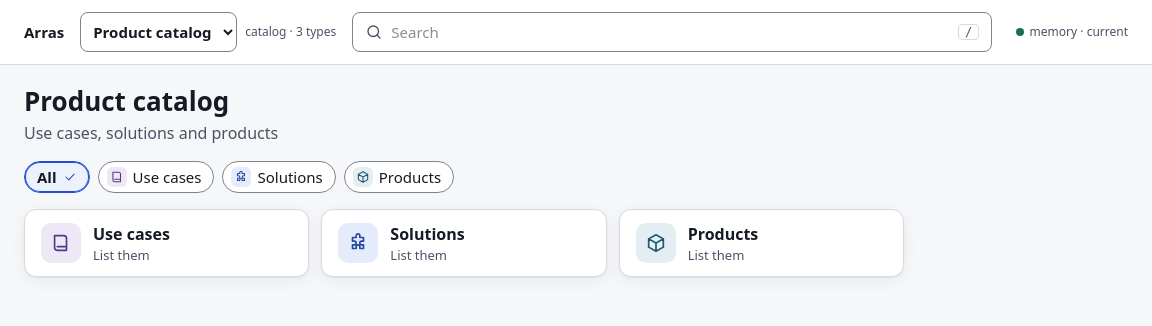
it: search (US-065) › US-065-AC5: one character sends no search and the page says two are needed
Step 1. Type "h" into the field labelled "Search" → [671, 32], box [391, 21, 950, 43]
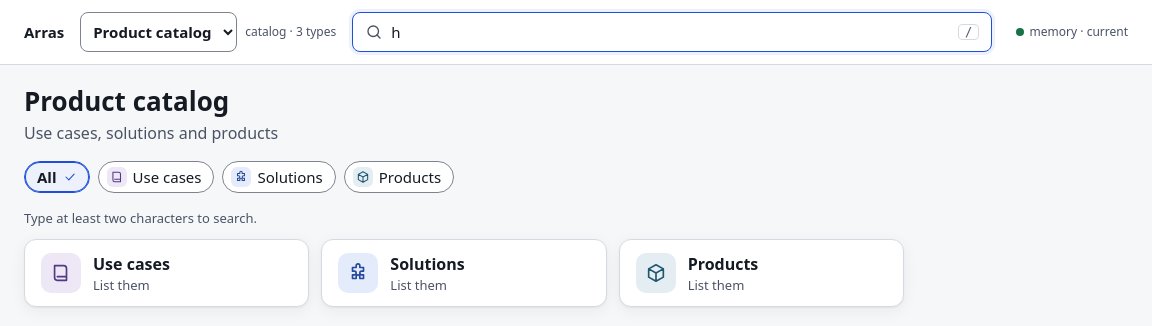
Result: the message with test id "gb-hint" shows "Type at least two characters" at [24, 209, 257, 227]
